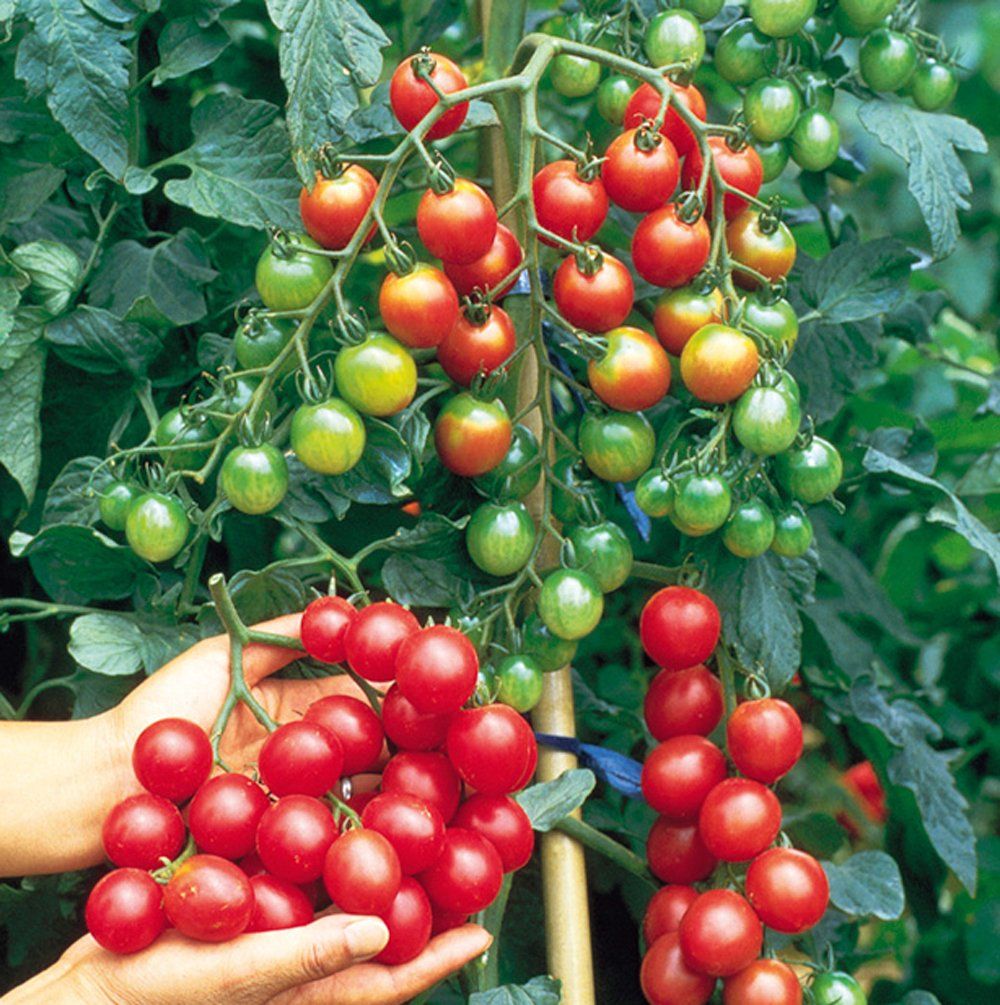tomato: (637, 579, 726, 673), (638, 659, 732, 747), (394, 616, 475, 718), (448, 702, 535, 796), (635, 731, 731, 816), (725, 691, 808, 788), (678, 884, 765, 975), (751, 841, 829, 942), (583, 325, 674, 411), (388, 47, 472, 138), (303, 167, 389, 253), (381, 255, 458, 351), (249, 796, 337, 879), (414, 173, 497, 261), (258, 718, 345, 801), (434, 385, 511, 478), (132, 716, 215, 802), (85, 870, 168, 956), (168, 859, 255, 941), (335, 324, 412, 416), (291, 391, 369, 481), (429, 827, 505, 919), (323, 825, 398, 918), (695, 779, 785, 856), (631, 201, 706, 293), (677, 318, 757, 404), (595, 124, 675, 208), (532, 155, 608, 242), (363, 793, 443, 873), (341, 601, 423, 679), (258, 233, 338, 311), (557, 247, 634, 328), (103, 795, 185, 870), (368, 875, 434, 967), (581, 402, 652, 487), (638, 930, 715, 1005), (191, 775, 266, 851), (535, 565, 603, 644), (472, 496, 534, 576), (123, 490, 186, 568), (223, 444, 288, 513), (645, 8, 708, 79), (783, 435, 845, 507), (738, 385, 800, 453), (671, 467, 732, 535), (740, 73, 798, 144)
